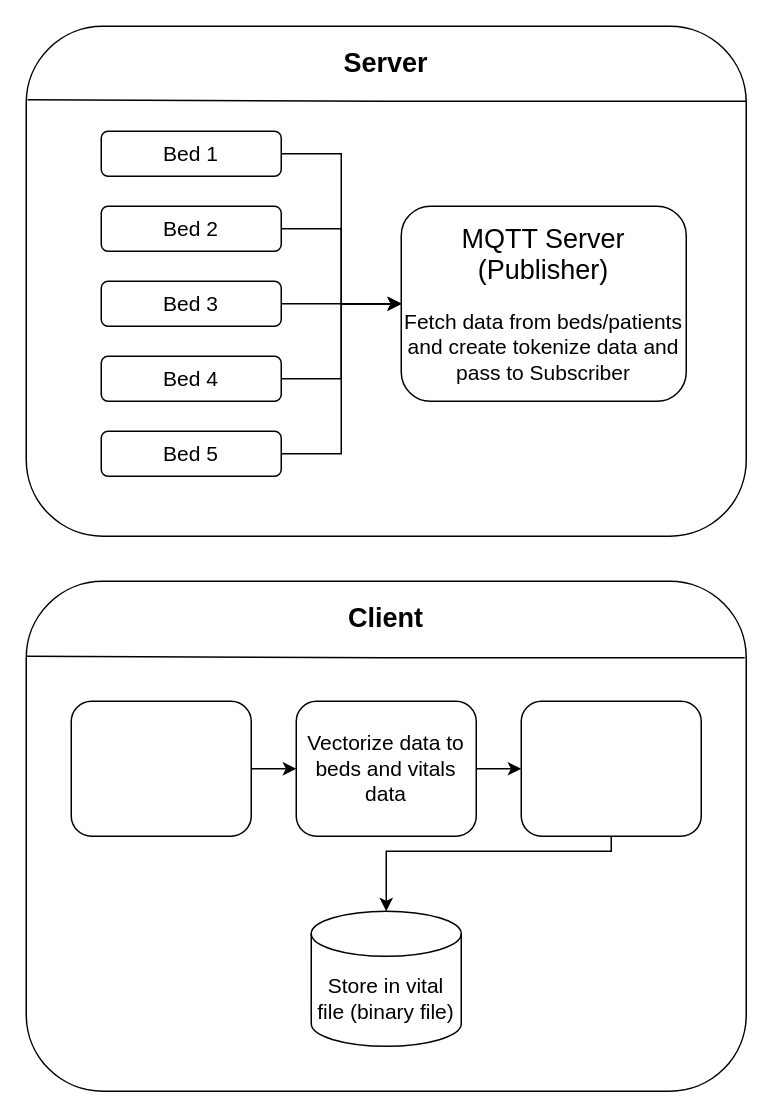
This 774x1118 diagram has some shape labels left out. Here are the shapes that lost their labels. From the top down, the centre of each, then its label:
At (x=160, y=768): "Fetch MQTT tokenized data through Subscribe".
At (x=610, y=768): "Convert ranged values to bits".
